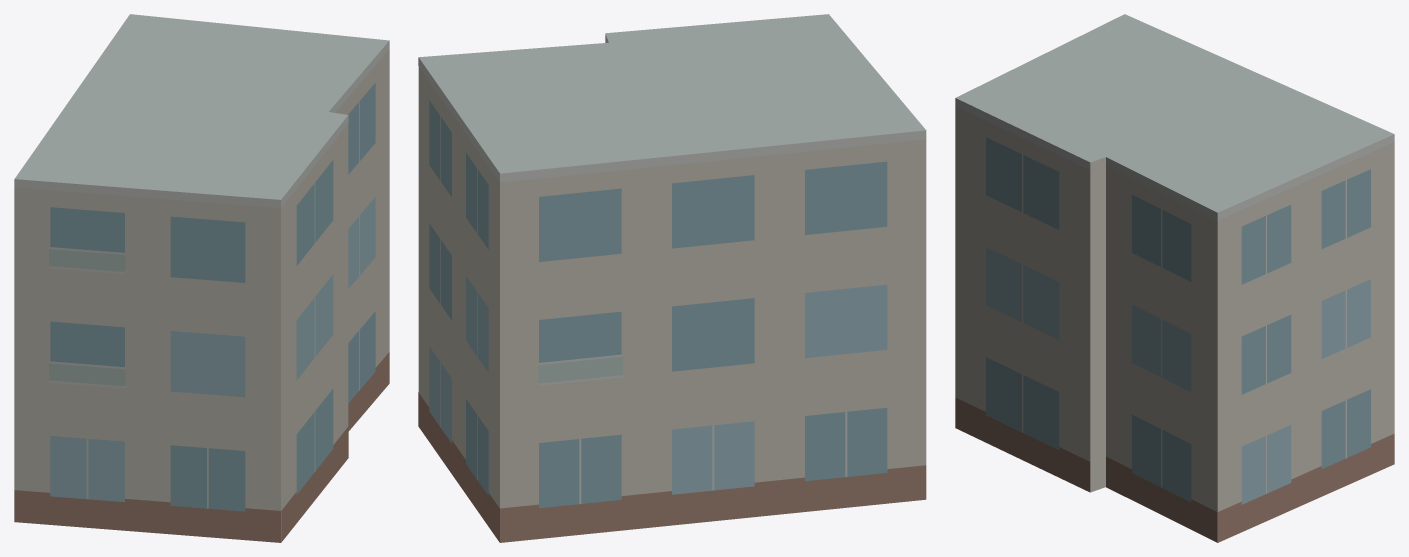
Rendered from survey-upis-32640934.glb.
The picture shows the model from 3 angles, left to right: view 1: azimuth 30°, elevation 25°; view 2: azimuth 150°, elevation 25°; view 3: azimuth 270°, elevation 25°; orthographic projection. The views are drawn at different scales.
Parts seen in each view (by area): view 1: survey-upis-32640934.tmp; view 2: survey-upis-32640934.tmp; view 3: survey-upis-32640934.tmp.
Boxes of the visible parts, x1,y1,x2,y2 form: survey-upis-32640934.tmp: (14,14,389,542); survey-upis-32640934.tmp: (418,14,926,542); survey-upis-32640934.tmp: (955,14,1394,542).
Bounding box in the file's own units: 13.06 × 10.1 × 12.19.
